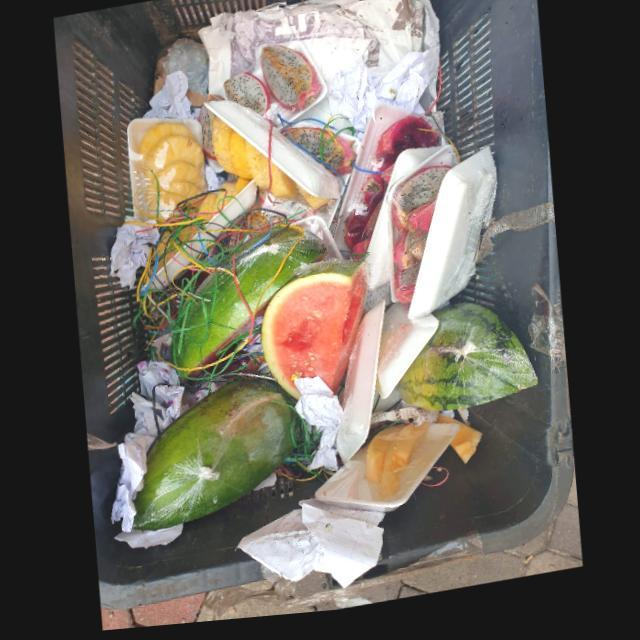left_over_food: (260, 266, 371, 405), (344, 123, 442, 266), (391, 172, 451, 312), (137, 125, 205, 224), (365, 430, 430, 506), (261, 50, 319, 115), (435, 420, 483, 474), (223, 75, 271, 120)
